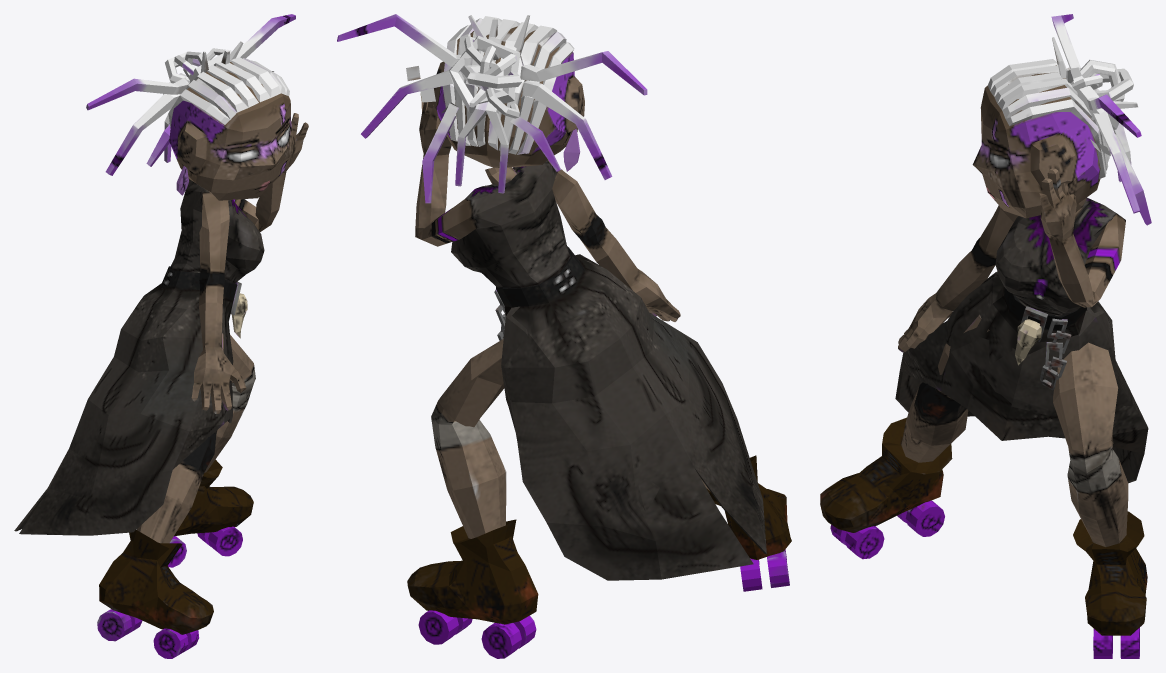
File: bruja_000032.obj
3 views of the same model, side by side, from view 1: azimuth 30°, elevation 25°; view 2: azimuth 150°, elevation 25°; view 3: azimuth 270°, elevation 25° (orthographic). The views are drawn at different scales.
Visible parts, largest first — view 1: Bruja_Plane.001; view 2: Bruja_Plane.001; view 3: Bruja_Plane.001.
Boxes of the visible parts, x1,y1,x2,y2 form: Bruja_Plane.001: [14, 14, 308, 658]; Bruja_Plane.001: [337, 14, 791, 658]; Bruja_Plane.001: [820, 14, 1151, 658].
Size of the model in its own units: 9.93 by 15.44 by 7.79.
